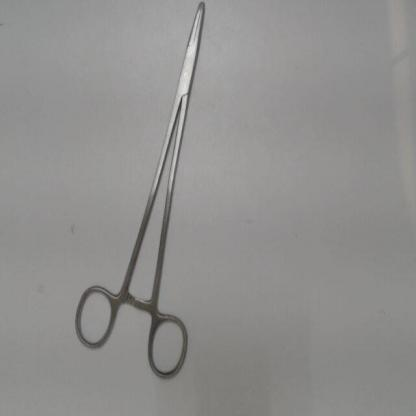8 Mayo Needle Holder: (67, 1, 210, 390)
